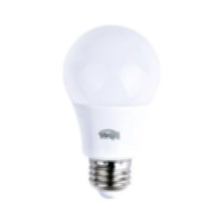light_bulb: (58, 20, 163, 204)
